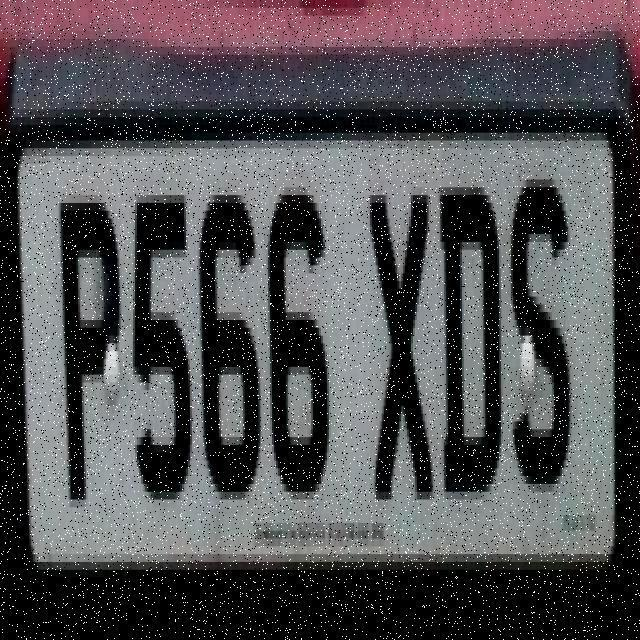LicensePlate: (3, 14, 639, 627)
